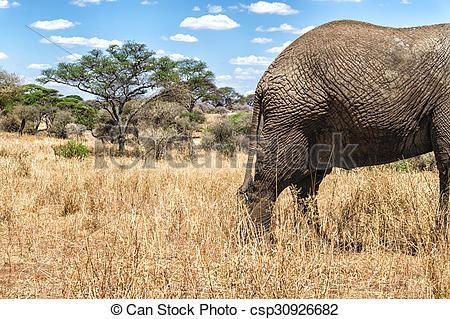elephant: (234, 21, 450, 251)
